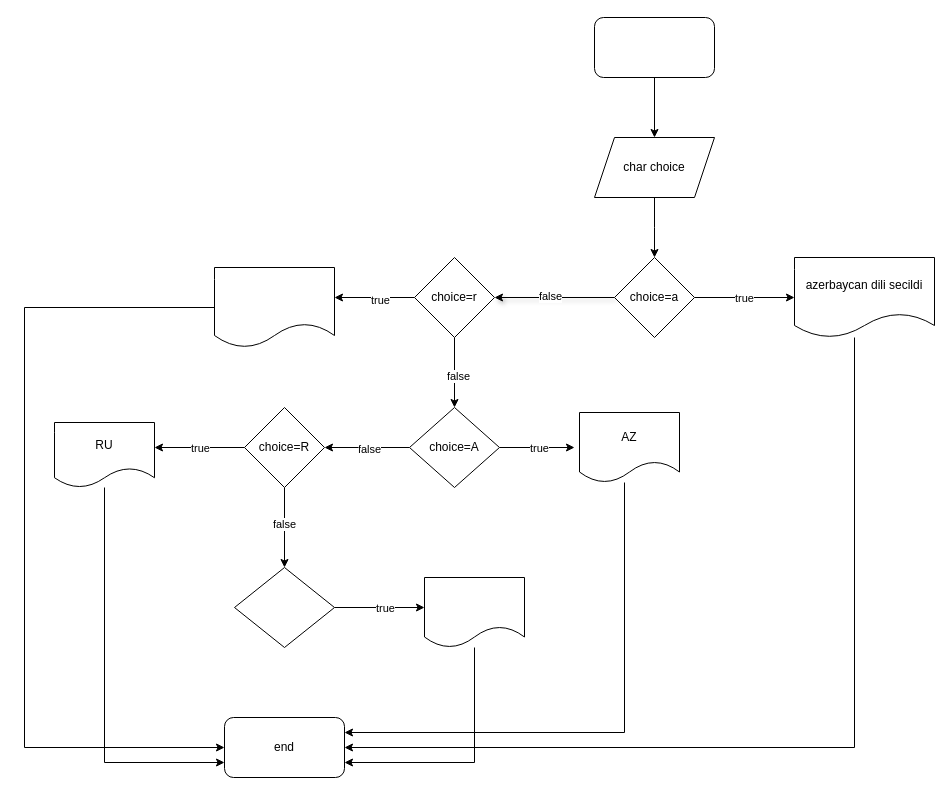
The diagram is 952 pixels wide and 795 high, and some of its shapes have lost their labels. The centre of each missing label's shape, as x and y in pixels:
default: the point at 284,607
rus dili secildi: the point at 274,307
start: the point at 654,47
Yanliz sorgu: the point at 474,612
